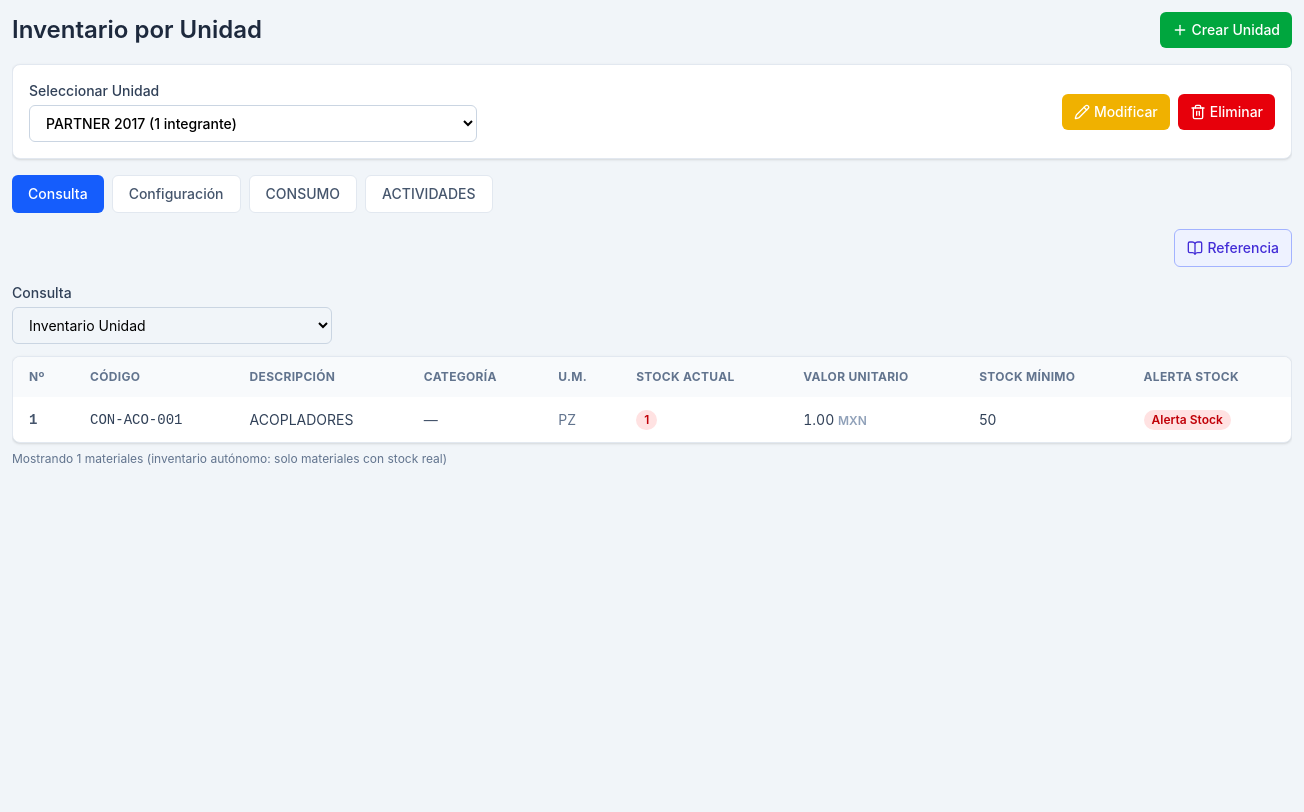
Test: Consulta SOLO LECTURA (REQ-REF-003) › en Configuración el panel SÍ ofrece Agregar, Modificar y Eliminar
Click the button "Configuración". click: (176, 194)
box: [112,175,240,213]
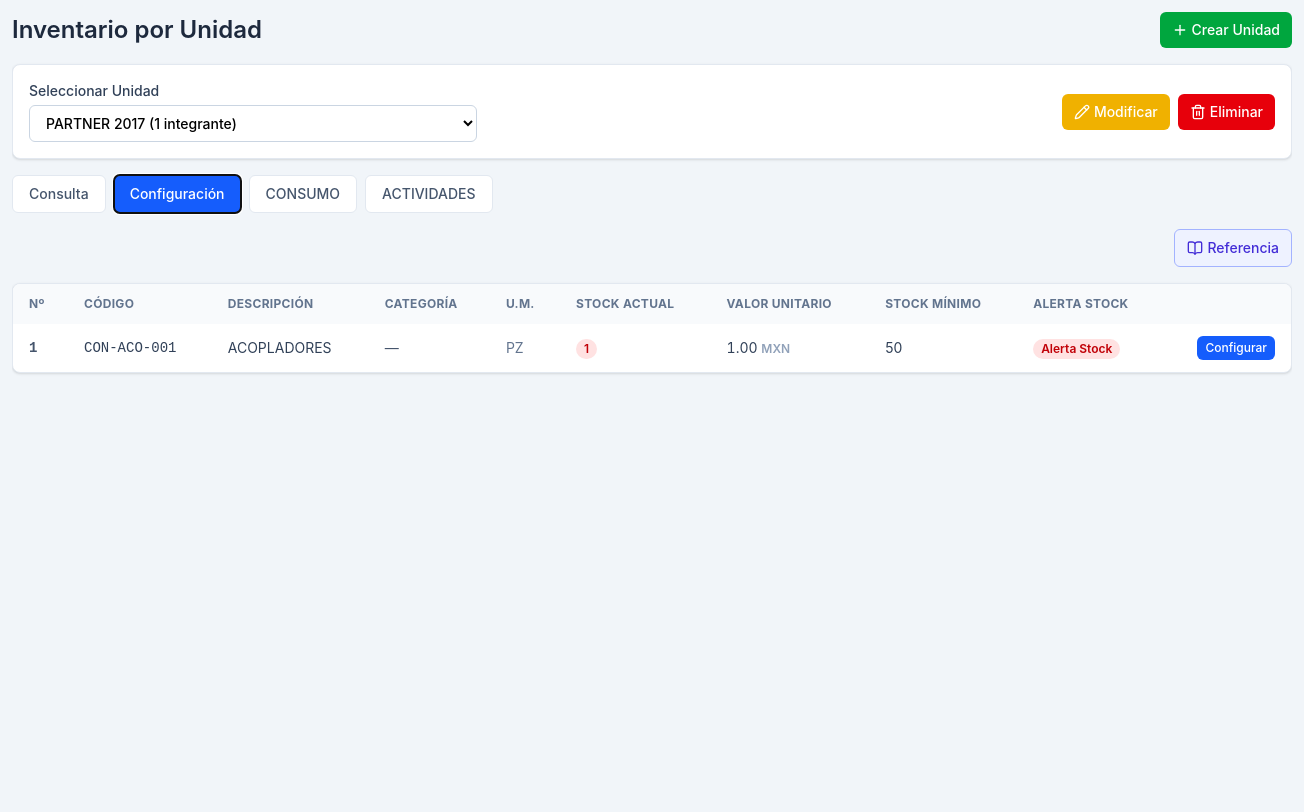
Click the button "Referencia". click: (1233, 248)
box: [1174,229,1292,267]
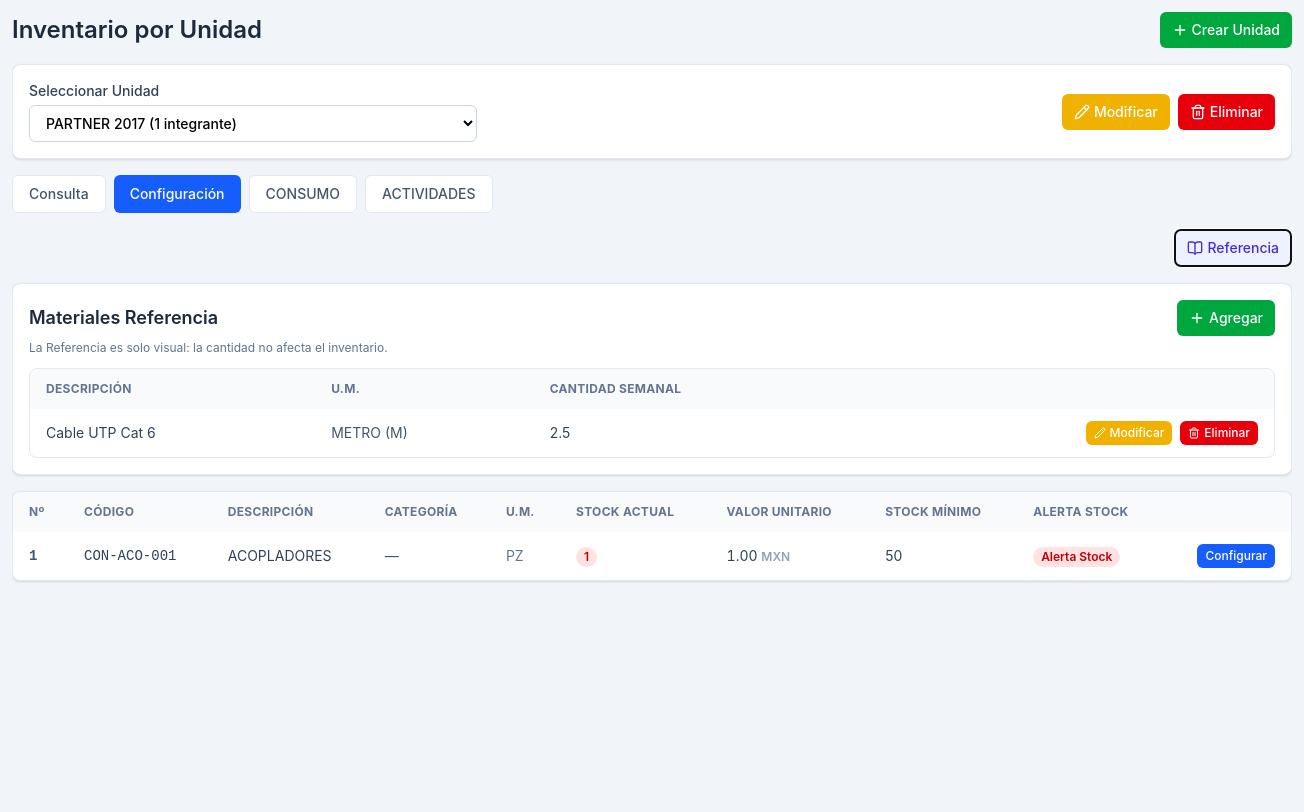
Expected: the text "Cable UTP Cat 6" is shown, [30,409,315,457]
Expected: the button "Agregar" is shown, [1177,300,1275,336]
Expected: the button with aria-label "Modificar Cable UTP Cat 6" is shown, [1086,421,1172,445]
